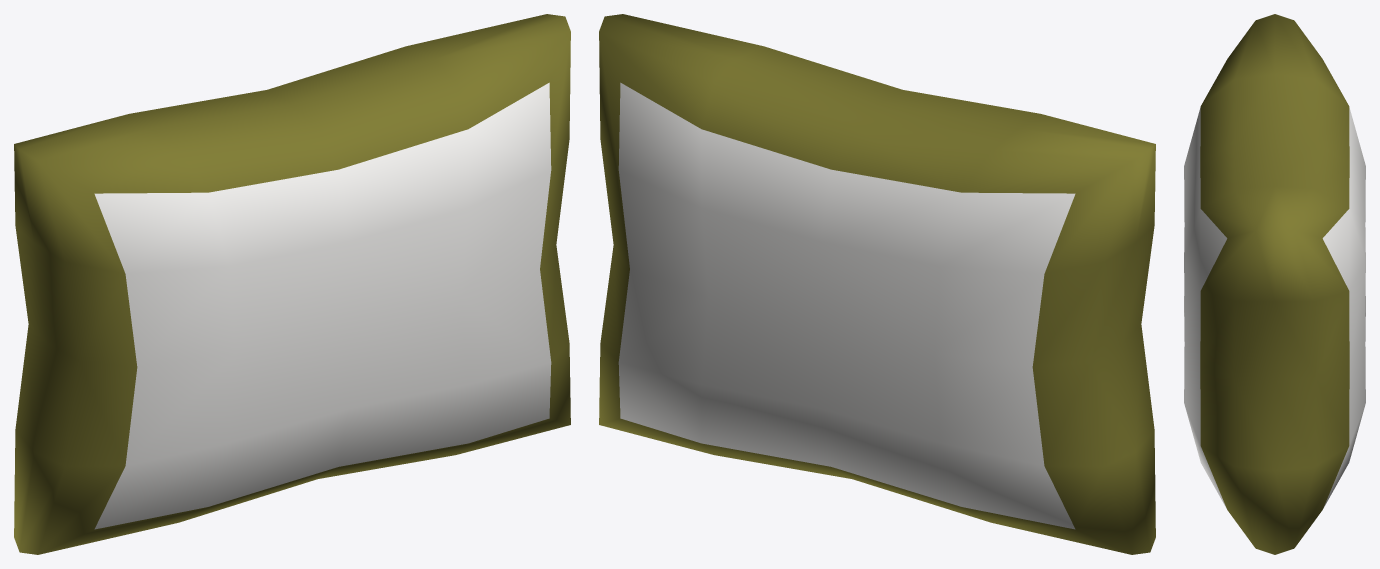
Rendered from Pillow_19.glb.
3 views of the same model, side by side, from view 1: azimuth 30°, elevation 25°; view 2: azimuth 150°, elevation 25°; view 3: azimuth 270°, elevation 25° (orthographic). The views are drawn at different scales.
Visible parts, largest first — view 1: Pillow_19; view 2: Pillow_19; view 3: Pillow_19.
Boxes of the visible parts, left/top/right/bottom form: Pillow_19: left=14, top=14, right=570, bottom=554; Pillow_19: left=599, top=14, right=1155, bottom=554; Pillow_19: left=1184, top=14, right=1365, bottom=554.
Size of the model in its own units: 0.7549 by 0.5325 by 0.2695.
1 material, 1 textured.
